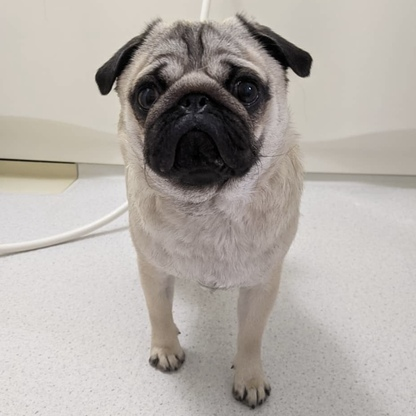Pug: (90, 9, 320, 416)
